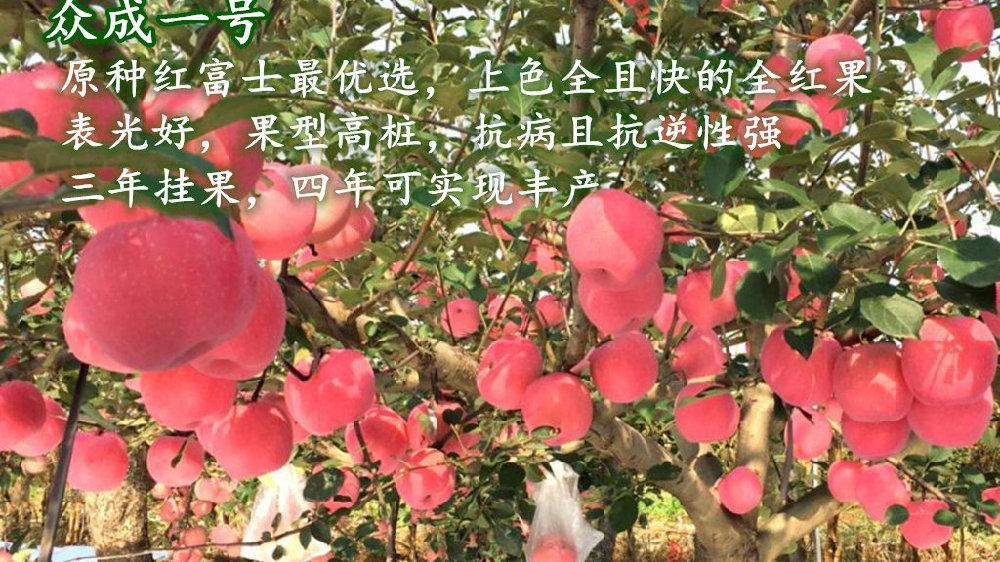apple: (72, 215, 257, 370), (187, 269, 284, 381), (567, 189, 664, 291), (904, 314, 1000, 403), (283, 348, 376, 435), (210, 396, 293, 479), (761, 323, 839, 406), (834, 341, 914, 420), (140, 371, 239, 432), (575, 265, 666, 330), (903, 386, 996, 448), (475, 338, 542, 412), (525, 370, 592, 443), (591, 331, 658, 403), (678, 263, 747, 328), (672, 382, 744, 443), (64, 428, 129, 491), (836, 413, 912, 460), (143, 435, 206, 485), (899, 497, 956, 549), (782, 411, 834, 460), (719, 466, 764, 517), (439, 296, 482, 336)
